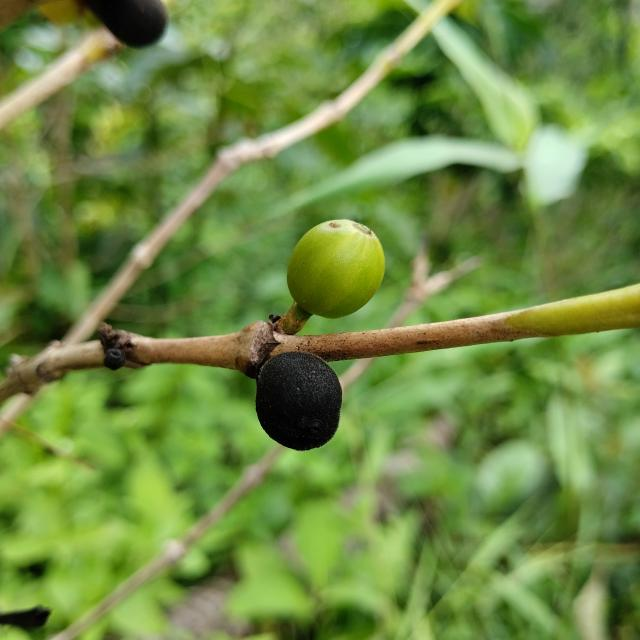Overripe: (255, 352, 342, 451)
Unripe: (287, 219, 385, 318)
